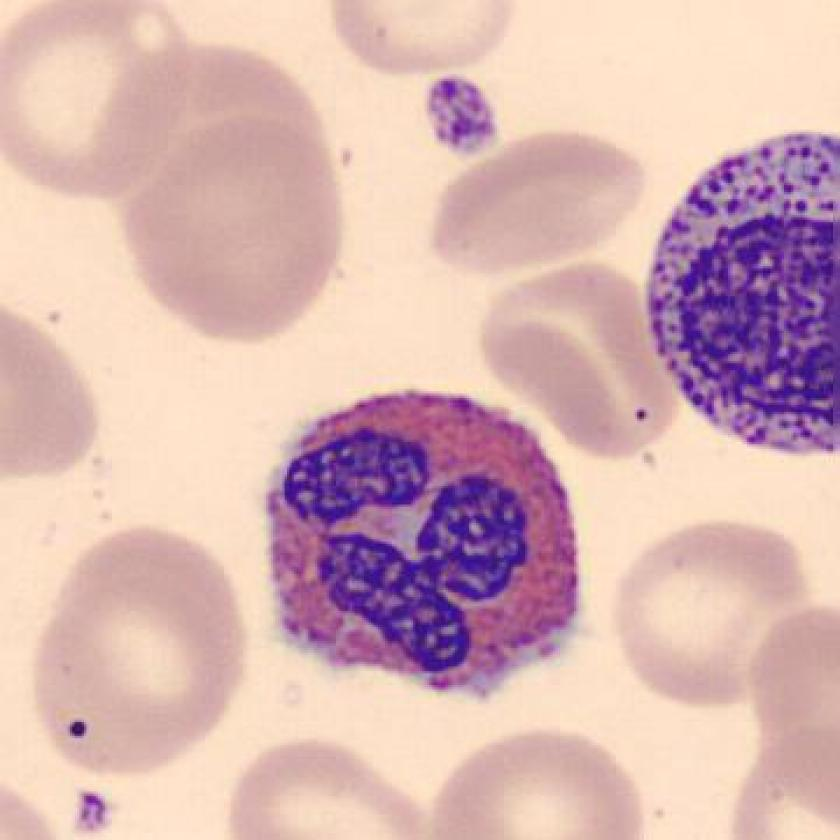eosinophil: (246, 376, 596, 714)
